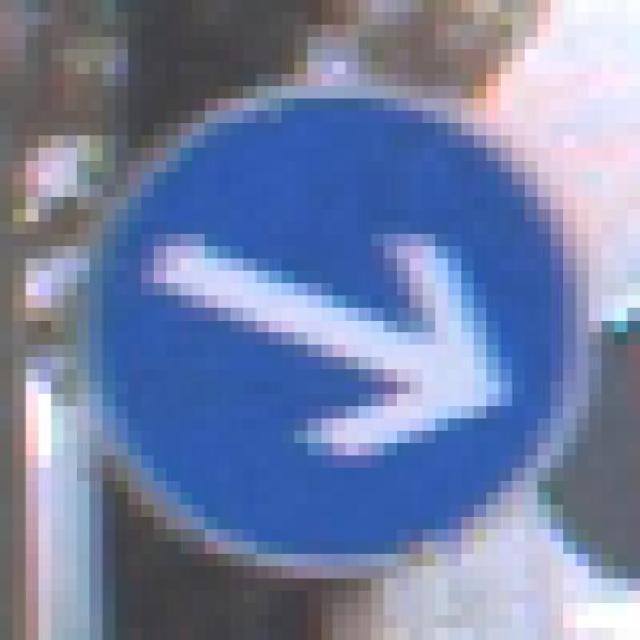Keep-Right: (63, 74, 614, 591)
